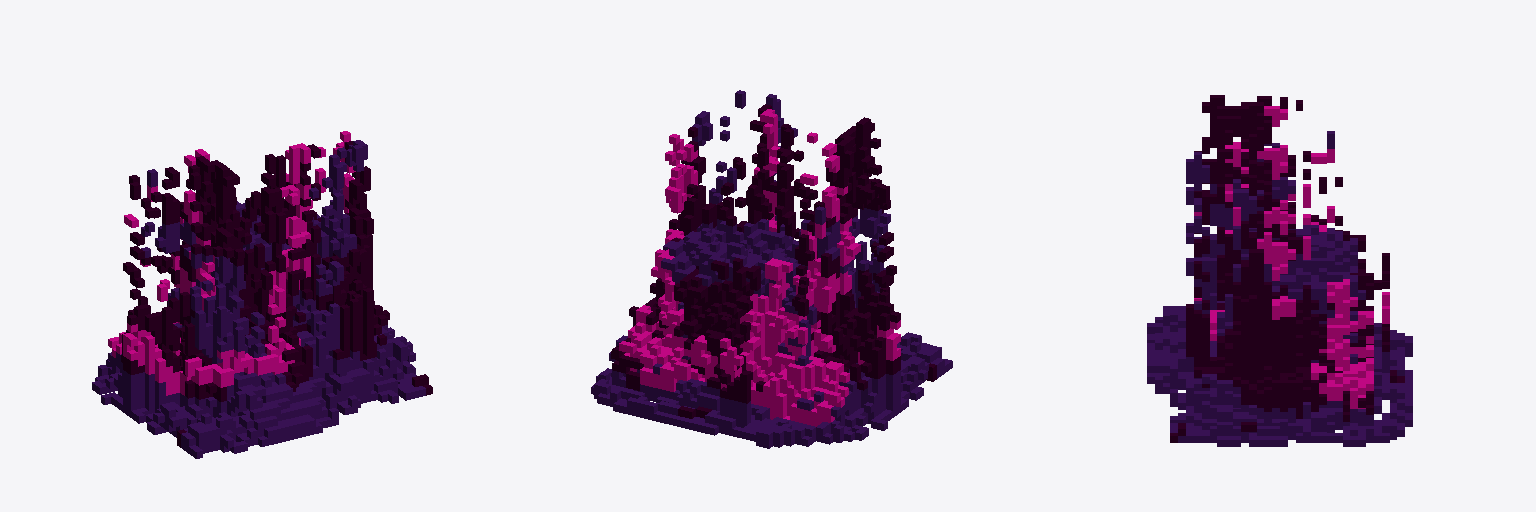
The picture shows the model from 3 angles: view 1: azimuth 30°, elevation 25°; view 2: azimuth 150°, elevation 25°; view 3: azimuth 270°, elevation 25°; orthographic projection.
Visible parts, largest first — view 1: rock_newcolor; view 2: rock_newcolor; view 3: rock_newcolor.
Part boxes in pixels (x1,y1,x2,y2): rock_newcolor: (92, 131, 432, 458); rock_newcolor: (591, 90, 952, 448); rock_newcolor: (1147, 95, 1412, 446).
Bounding box in the file's own units: 40 × 36 × 34.
1 materials, 1 textured.